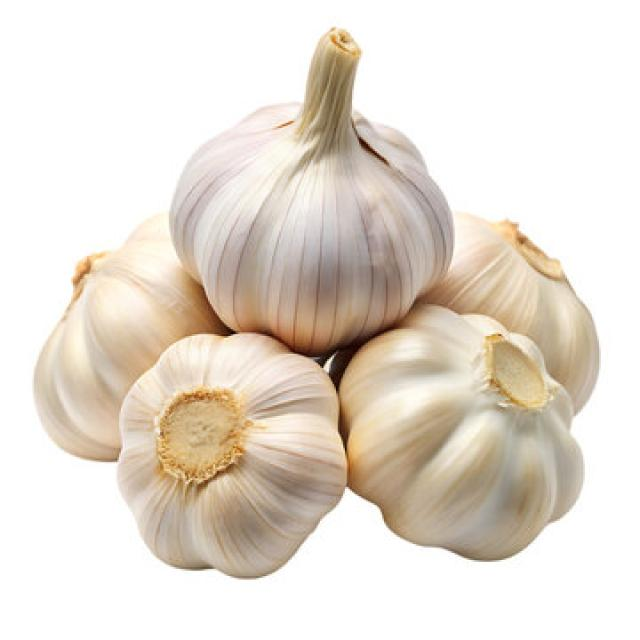Garlic: (167, 25, 455, 355), (338, 300, 585, 562), (114, 329, 348, 578), (31, 210, 230, 460), (418, 210, 599, 416)
